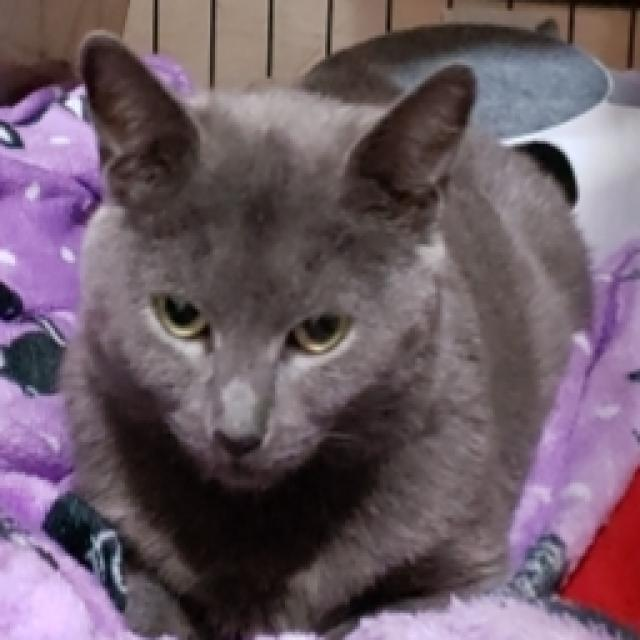Russian Blue: (60, 30, 600, 640)
